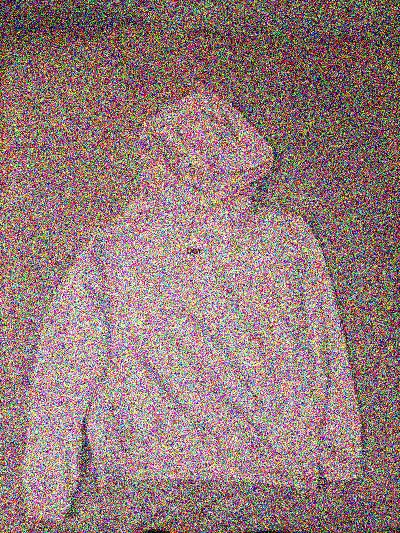Hoodie: (12, 66, 383, 514)
